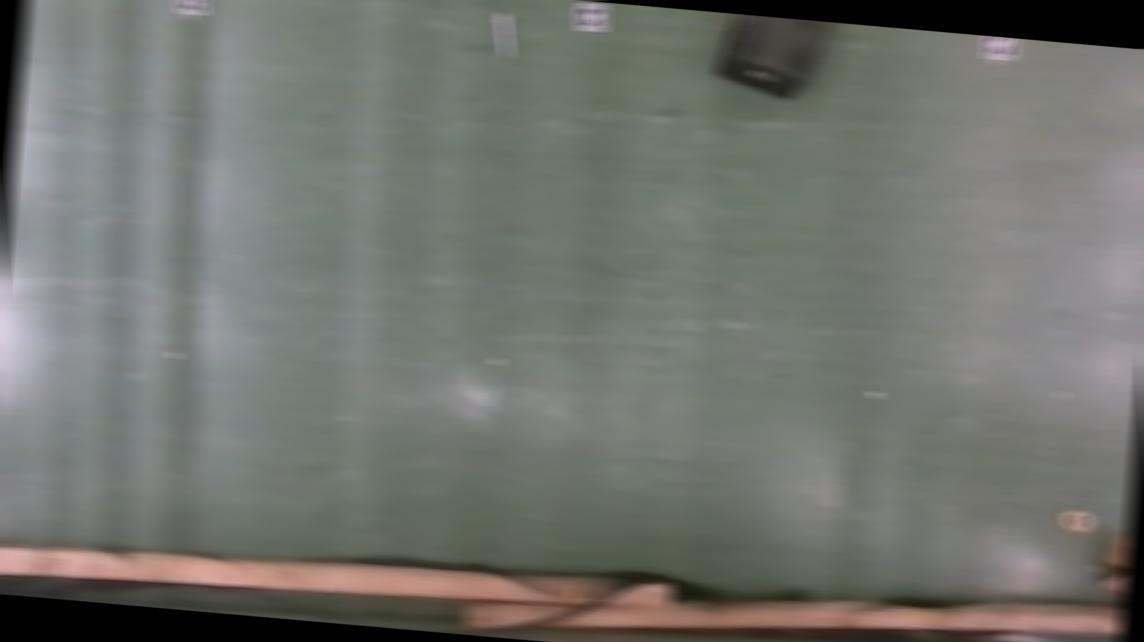probes: (492, 12, 514, 58)
rako: (712, 12, 838, 104)
